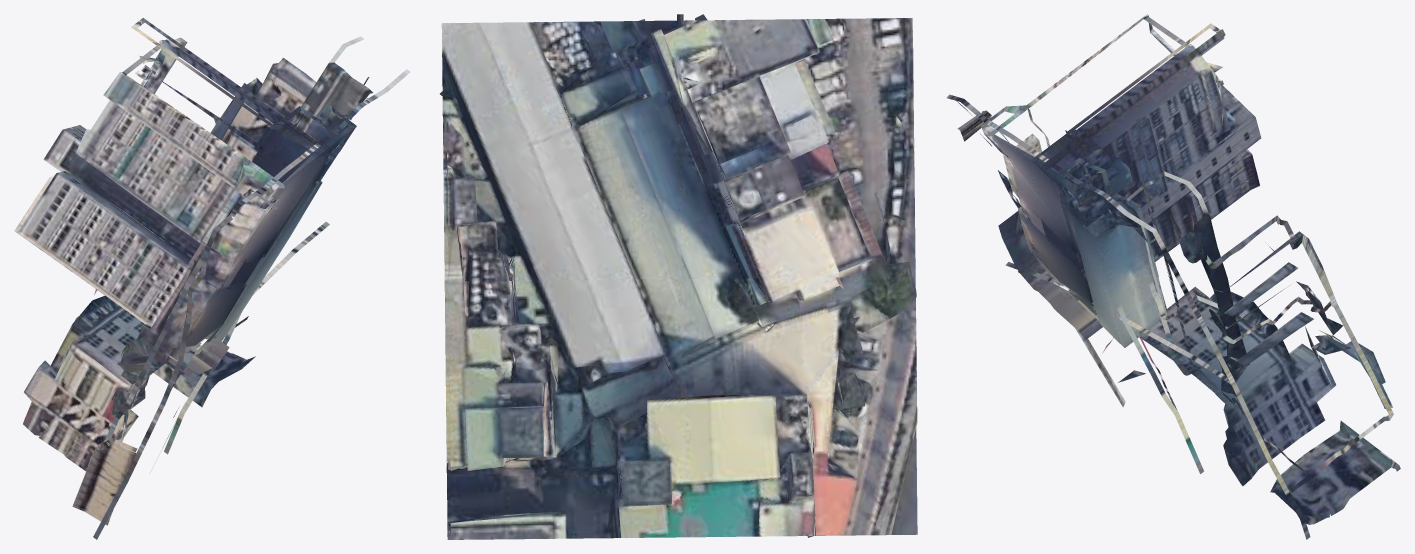
3 renders of one model, left to right at view 1: azimuth 30°, elevation 25°; view 2: azimuth 150°, elevation 25°; view 3: azimuth 270°, elevation 25°, orthographic. The views are drawn at different scales.
Bounding box in the file's own units: 77.75 × 89.26 × 81.71.
3 materials, 3 textured.
